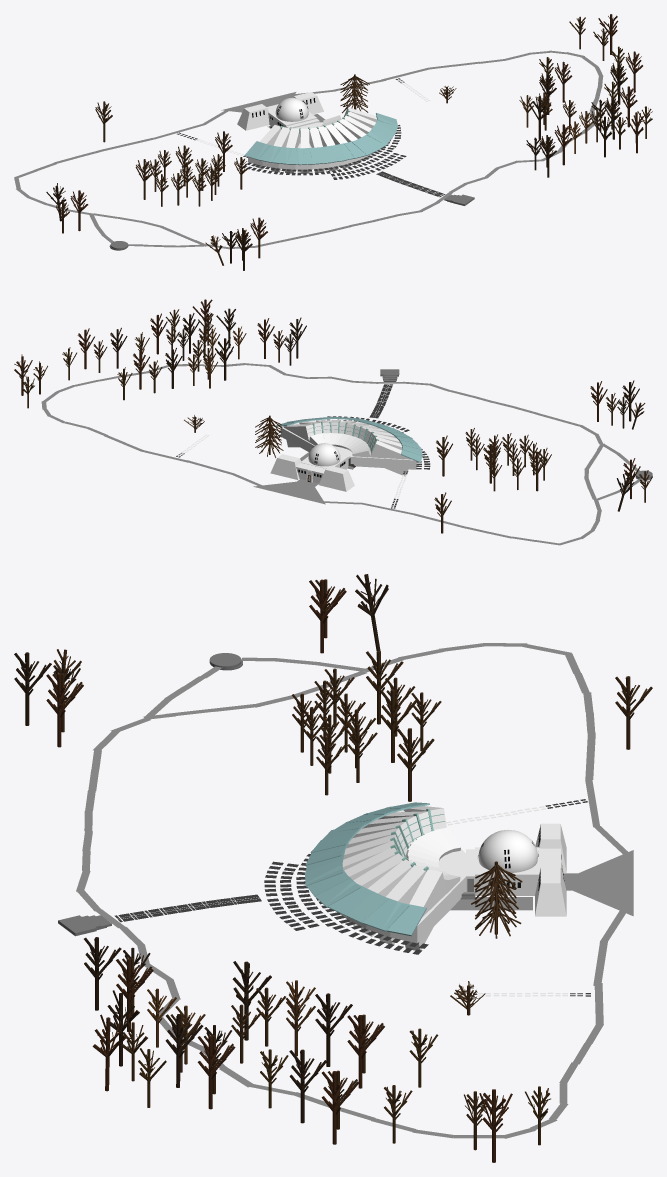
The model's file is asmundarsafn_03_43.obj.
The picture shows the model from 3 angles, top to bottom: view 1: azimuth 30°, elevation 25°; view 2: azimuth 150°, elevation 25°; view 3: azimuth 270°, elevation 25°; orthographic projection. The views are drawn at different scales.
Visible parts, largest first — view 1: Plane.001, Cube.047, Cube.033, Plane.131, syningarsalur, Sphere, h_hlid, Cylinder.066; view 2: Plane.001, Cube.033, syningarsalur, Cube.047, h_hlid, Sphere, v_hlid, Cylinder.066; view 3: Plane.001, Cube.033, Cube.047, Plane.131, syningarsalur, Sphere, v_hlid, Cylinder.066, innanhus, Plane.067.
Part boxes in pixels (x1,y1,x2,y2): Plane.001: (14, 50, 603, 250); Cube.047: (244, 113, 398, 165); Cube.033: (255, 107, 376, 173); Plane.131: (242, 125, 406, 179); syningarsalur: (248, 122, 373, 169); Sphere: (275, 98, 308, 121); h_hlid: (237, 104, 269, 130); Cylinder.066: (340, 74, 369, 113); Plane.001: (41, 363, 650, 545); Cube.033: (283, 420, 411, 476); syningarsalur: (281, 420, 416, 469); Cube.047: (276, 416, 422, 462); h_hlid: (319, 466, 354, 491); Sphere: (308, 443, 340, 466); v_hlid: (270, 454, 301, 479); Cylinder.066: (255, 415, 283, 457); Plane.001: (58, 643, 633, 1138); Cube.033: (342, 806, 460, 950); Cube.047: (304, 802, 429, 936); Plane.131: (264, 850, 428, 954); syningarsalur: (341, 810, 465, 943); Sphere: (478, 829, 537, 872); v_hlid: (535, 867, 566, 916); Cylinder.066: (473, 861, 522, 938); innanhus: (475, 847, 540, 895); Plane.067: (114, 894, 261, 922).
Bounding box in the file's own units: 160 × 12.29 × 80.33.
